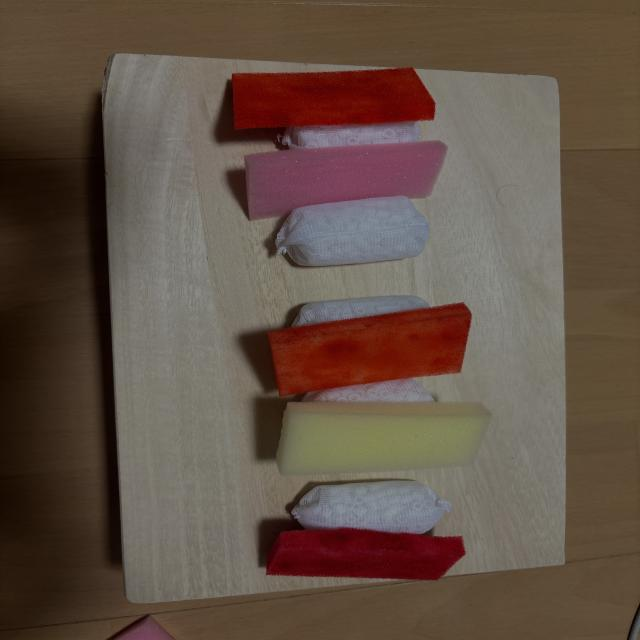NG: (245, 141, 447, 266), (277, 379, 491, 475), (269, 295, 471, 396), (266, 480, 465, 580), (232, 68, 435, 149)
